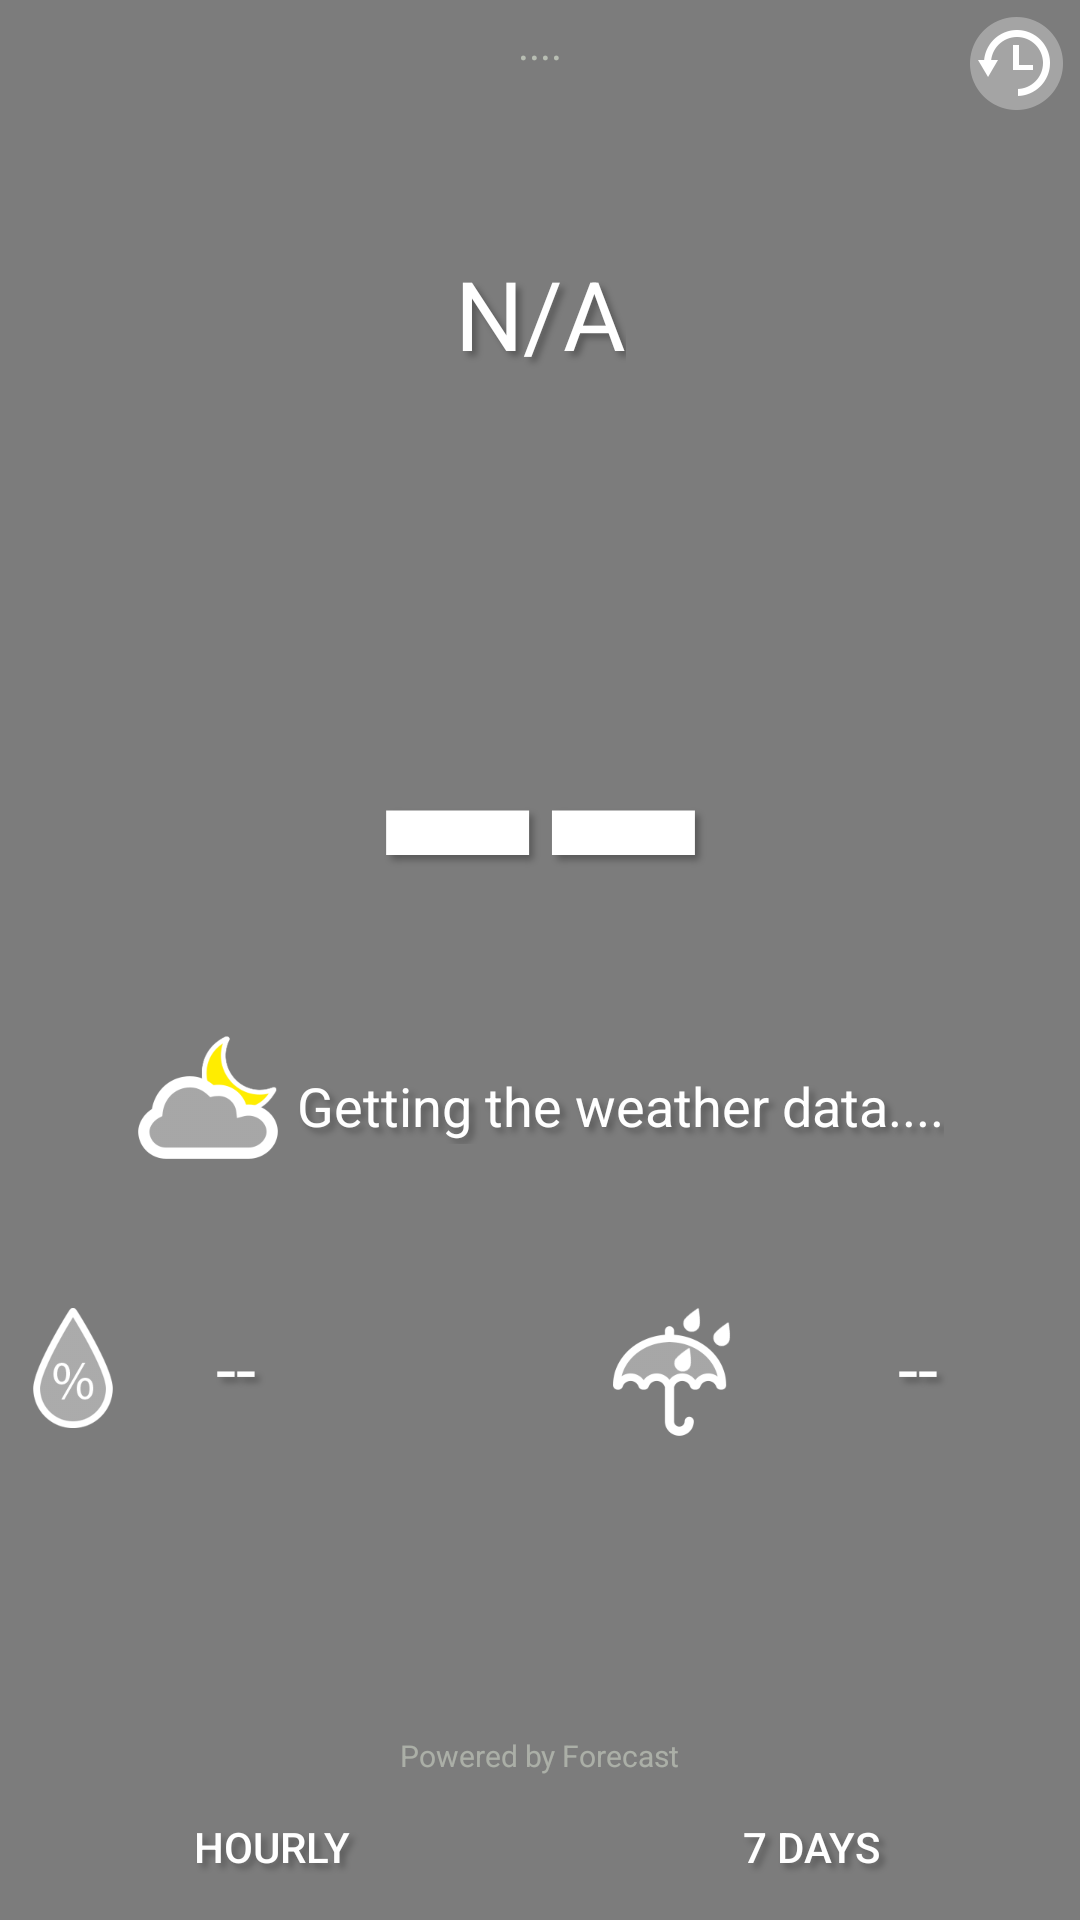

Named icons in this screenshot (1080px x 1920px) and their bounding boxes, (x1, y1, x2, y2):
cloudy night: (138, 1036, 278, 1159)
humidity: (33, 1308, 113, 1428)
precipitation: (613, 1308, 730, 1436)
timemachine: (970, 17, 1063, 110)
